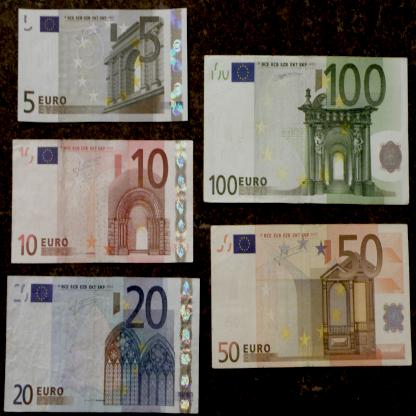euro_banknote: (203, 57, 412, 204), (212, 226, 412, 368), (6, 277, 201, 413), (11, 139, 194, 264), (18, 9, 189, 123)
